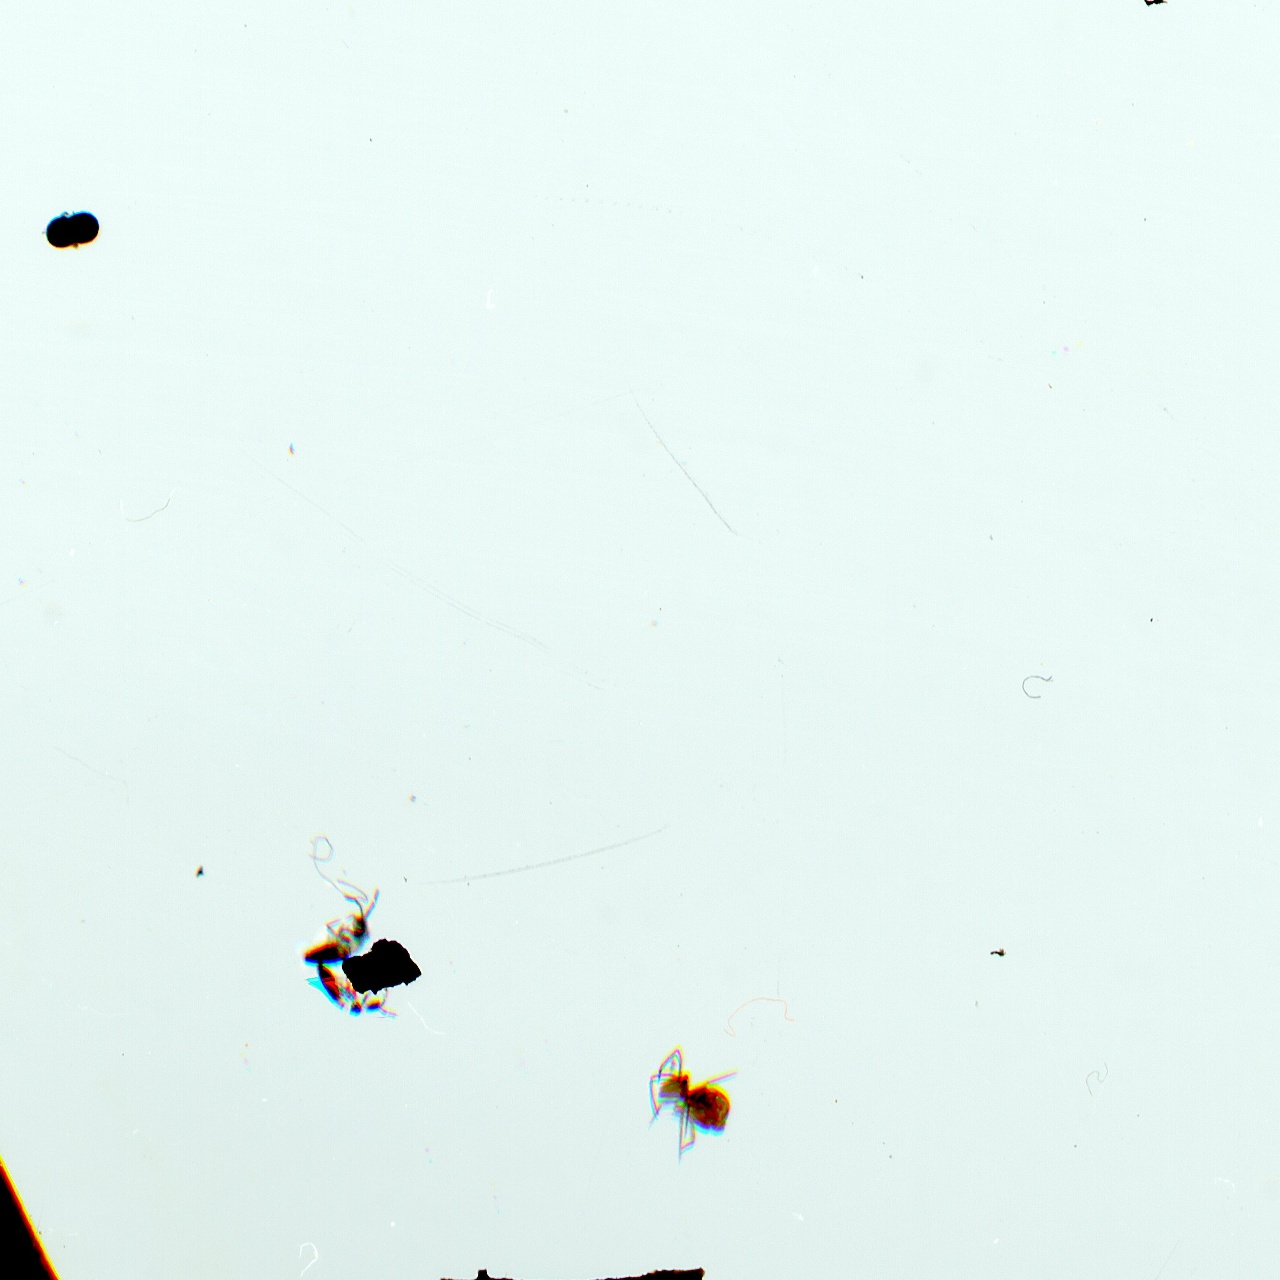arthropod: (641, 1042, 743, 1169), (300, 885, 386, 974), (304, 959, 402, 1023), (40, 204, 105, 256)
